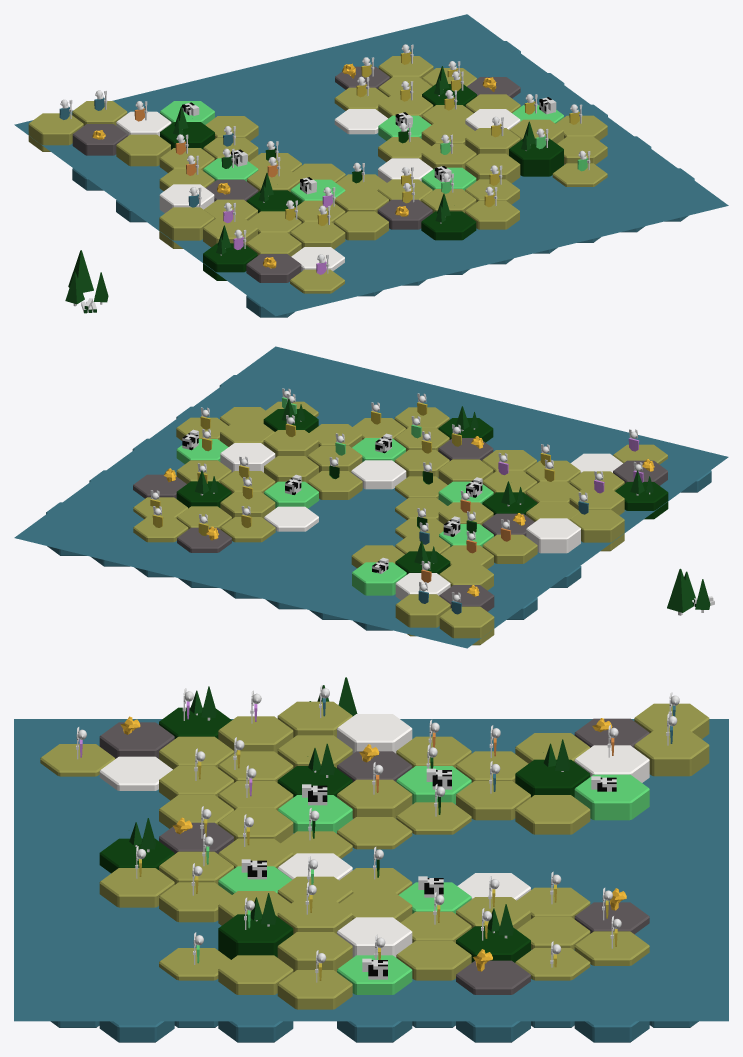
Rendered from map-test.fbx.
3 views of the same model, one above another, from view 1: azimuth 30°, elevation 25°; view 2: azimuth 150°, elevation 25°; view 3: azimuth 270°, elevation 25° (orthographic). The views are drawn at different scales.
Parts seen in each view (by area): view 1: Plane.001, row_5_1.002, row_11_1, row_4_8.002, row_9_2, Cube.035_Cube.024, row_10_1, row_3_4.002, row_3_1.002, row_2_5.002, row_2_6.002, row_2_1.002 (+53 smaller); view 2: Plane.001, row_6_1.002, row_11_1, row_5_1.002, row_11_2, row_10_3, row_5_6.002, row_7_2.002, row_3_1.002, row_6_6.002, Cube.035_Cube.024, row_6_8.002 (+54 smaller); view 3: Plane.001, row_11_2, row_10_3, row_9_4, row_5_10.002, row_4_8.002, row_4_9.002, row_2_6.002, row_8_3, row_7_9.002, row_5_9.002, row_6_1.002 (+59 smaller).
Boxes of the visible parts, box(x1,y1,x2,y2) form: Plane.001: box(14, 14, 728, 316); row_5_1.002: box(159, 207, 214, 248); row_11_1: box(28, 113, 83, 151); row_4_8.002: box(509, 138, 563, 176); row_9_2: box(116, 134, 170, 166); Cube.035_Cube.024: box(65, 250, 108, 313); row_10_1: box(72, 124, 127, 155); row_3_4.002: box(334, 211, 388, 240); row_3_1.002: box(203, 243, 257, 280); row_2_5.002: box(421, 211, 476, 240); row_2_6.002: box(465, 200, 519, 229); row_2_1.002: box(246, 254, 301, 282); Plane.001: box(14, 346, 728, 648); row_6_1.002: box(526, 518, 580, 553); row_11_1: box(439, 606, 494, 645); row_5_1.002: box(570, 509, 624, 551); row_11_2: box(395, 594, 450, 636); row_10_3: box(352, 562, 406, 595); row_5_6.002: box(351, 460, 406, 489); row_7_2.002: box(482, 534, 537, 563); row_3_1.002: box(615, 482, 668, 519); row_6_6.002: box(307, 471, 362, 499); Cube.035_Cube.024: box(667, 568, 714, 615); row_6_8.002: box(220, 443, 275, 472); Plane.001: box(14, 719, 728, 1021); row_11_2: box(634, 730, 709, 776); row_10_3: box(574, 774, 649, 820); row_9_4: box(515, 795, 590, 834); row_5_10.002: box(277, 970, 352, 1009); row_4_8.002: box(218, 914, 293, 959); row_4_9.002: box(218, 955, 293, 994); row_2_6.002: box(99, 868, 174, 907); row_8_3: box(456, 780, 530, 820); row_7_9.002: box(396, 940, 471, 980); row_5_9.002: box(277, 932, 352, 972); row_6_1.002: box(337, 714, 412, 753).
Size of the model in its own units: 2278 by 366 by 1867.
